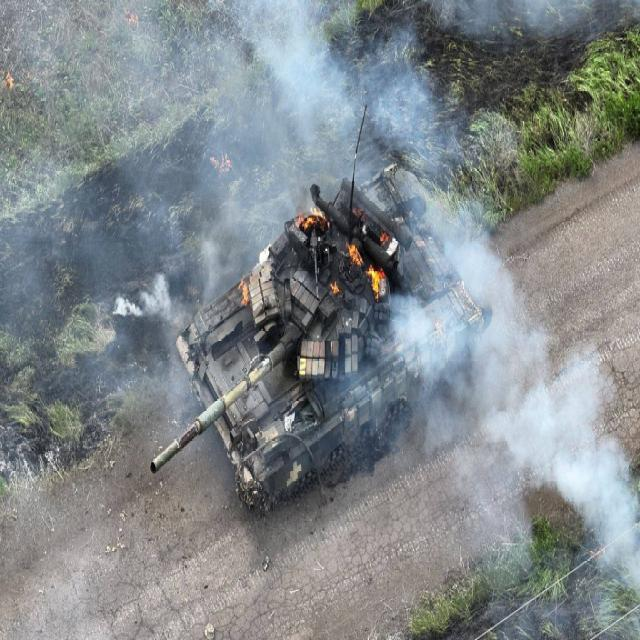TANK: (148, 158, 490, 516)
